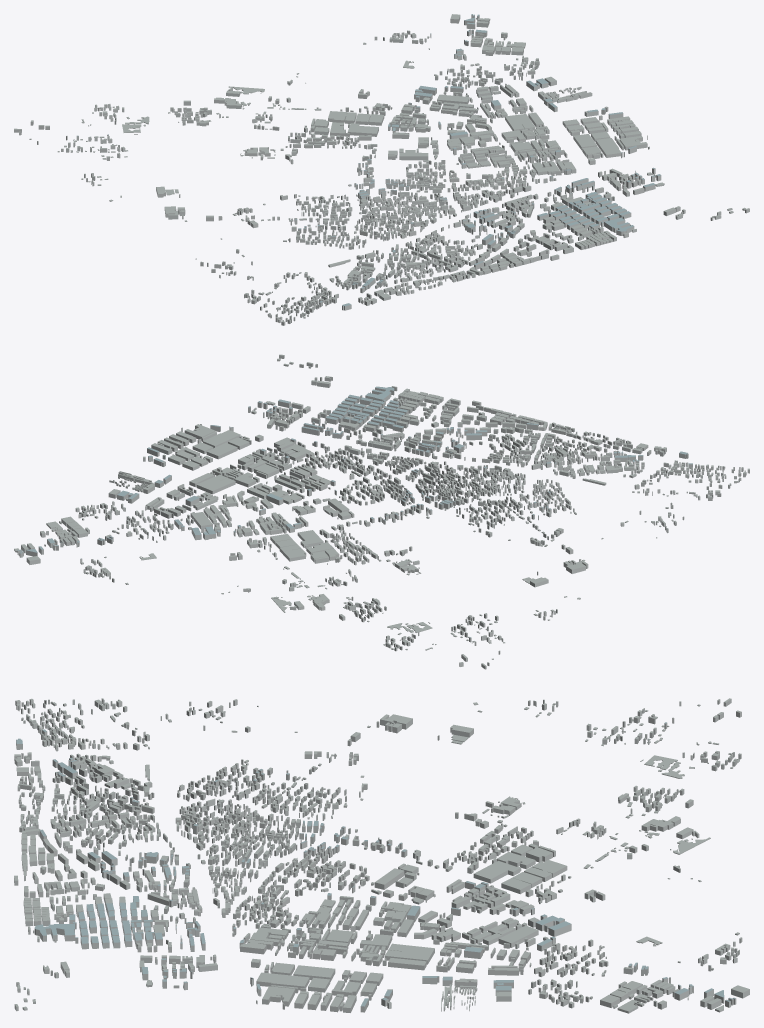
Rendered from far.glb.
3 renders of one model, top to bottom at view 1: azimuth 30°, elevation 25°; view 2: azimuth 150°, elevation 25°; view 3: azimuth 270°, elevation 25°, orthographic. The views are drawn at different scales.
Bounding box in the file's own units: 2132 × 27.81 × 2130.
